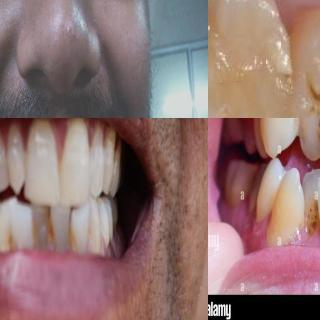calculus: (46, 214, 59, 253), (66, 218, 76, 260), (6, 222, 18, 254), (28, 217, 40, 245), (0, 213, 3, 243)
cavities: (302, 80, 320, 112)
maligned: (274, 172, 318, 248), (256, 155, 286, 231), (254, 118, 298, 158), (298, 165, 320, 237)
stains: (297, 192, 320, 248), (307, 118, 320, 156)
